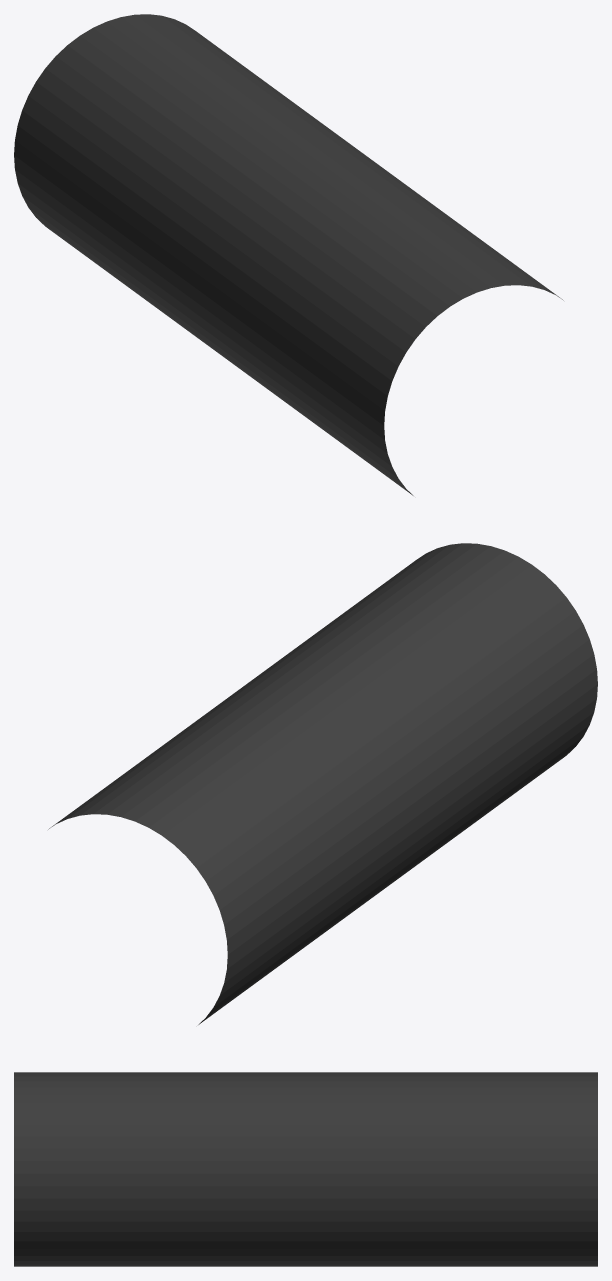
The model's file is char_fixed.glb.
3 renders of one model, top to bottom at view 1: azimuth 30°, elevation 25°; view 2: azimuth 150°, elevation 25°; view 3: azimuth 270°, elevation 25°, orthographic. The views are drawn at different scales.
Parts seen in each view (by area): view 1: geometry_0; view 2: geometry_0; view 3: geometry_0.
Boxes of the visible parts, x1,y1,x2,y2 form: geometry_0: (14, 14, 563, 495); geometry_0: (48, 543, 597, 1024); geometry_0: (14, 1072, 597, 1266).
Bounding box in the file's own units: 0.6 × 0.6 × 1.8.
Materials: 1 (1 with a texture image).
